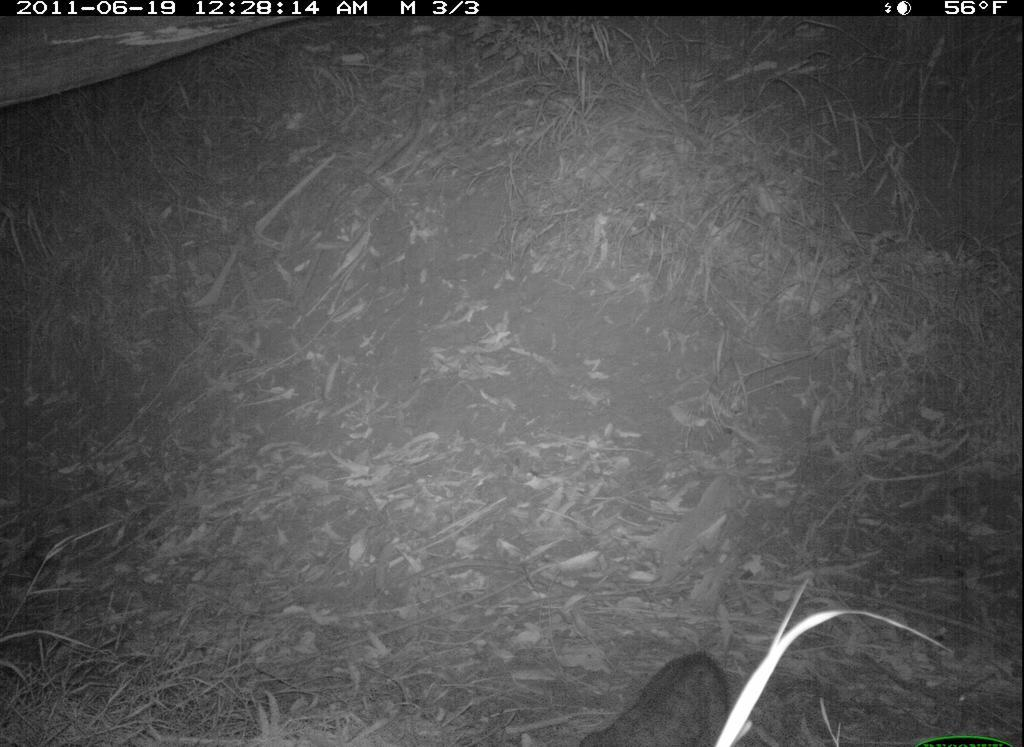cat: (507, 625, 762, 747)
